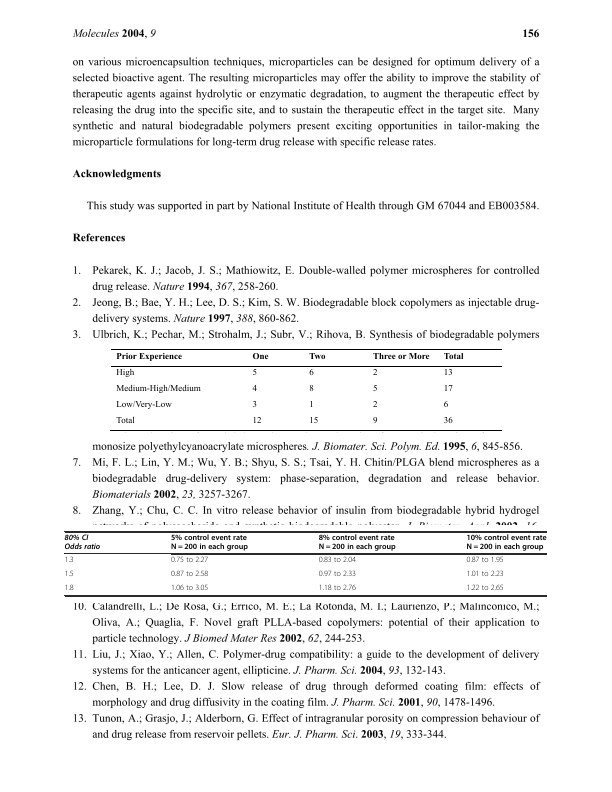borderless: (110, 347, 502, 430), (63, 530, 546, 595)
cell: (466, 534, 547, 552), (170, 534, 249, 552), (318, 534, 397, 552), (115, 384, 201, 394), (115, 351, 182, 361), (64, 534, 101, 551), (371, 351, 430, 361), (115, 400, 172, 410), (170, 557, 209, 564), (318, 557, 357, 564), (466, 557, 505, 564), (170, 571, 209, 578), (318, 571, 357, 578), (466, 571, 505, 578), (170, 585, 209, 592), (318, 585, 357, 592), (466, 585, 505, 592), (442, 351, 464, 361), (115, 368, 135, 378), (115, 416, 135, 426), (251, 351, 269, 361), (308, 351, 326, 361), (442, 368, 453, 378), (442, 384, 453, 394), (251, 416, 262, 426), (308, 416, 319, 426), (442, 416, 453, 426), (64, 557, 74, 564), (64, 571, 74, 578), (64, 585, 74, 592), (371, 368, 378, 378), (371, 384, 378, 394), (371, 400, 378, 410), (442, 400, 449, 410), (371, 416, 378, 426), (251, 368, 257, 378), (308, 368, 314, 378), (251, 384, 257, 394), (308, 384, 314, 394), (251, 400, 257, 410), (308, 400, 314, 410)
